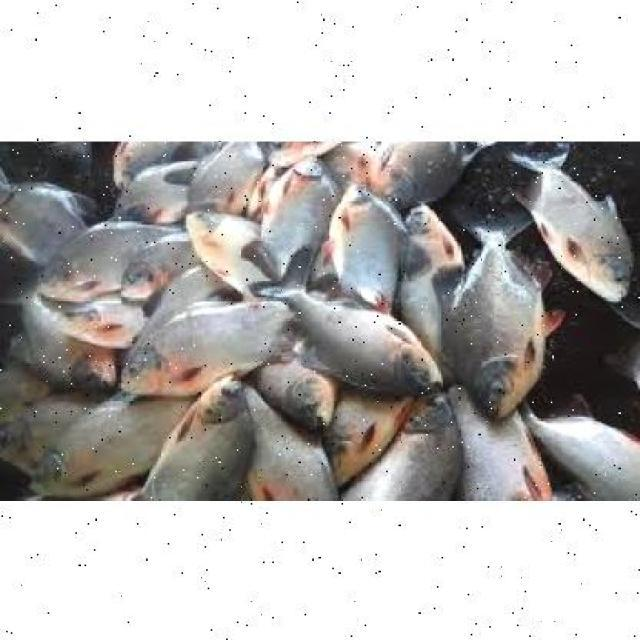ikan-pacu: (277, 284, 440, 396), (120, 287, 289, 393), (447, 220, 541, 408), (32, 390, 196, 496), (526, 153, 634, 296), (140, 378, 254, 500), (32, 216, 180, 298), (344, 396, 456, 498), (320, 175, 402, 298), (10, 287, 113, 384), (258, 151, 332, 277), (120, 229, 191, 297)
